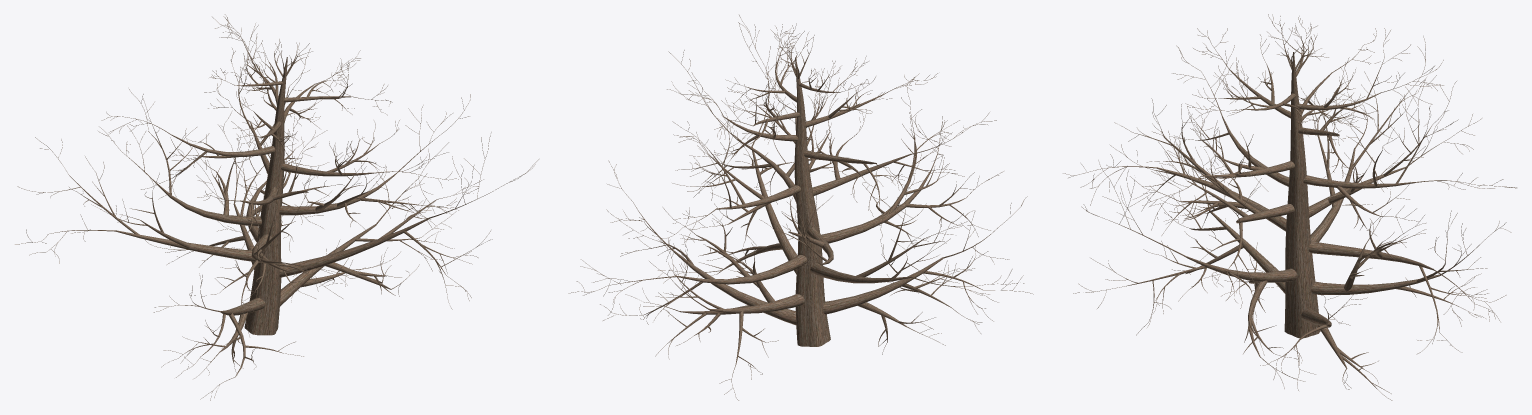
File: crown.glb
3 views of the same model, side by side, from view 1: azimuth 30°, elevation 25°; view 2: azimuth 150°, elevation 25°; view 3: azimuth 270°, elevation 25° (orthographic). The views are drawn at different scales.
Size of the model in its own units: 11.79 by 8.27 by 10.31.
1 material, 1 textured.
